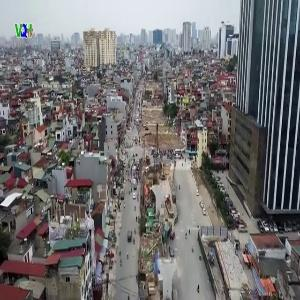drone: (30, 49, 89, 108)
